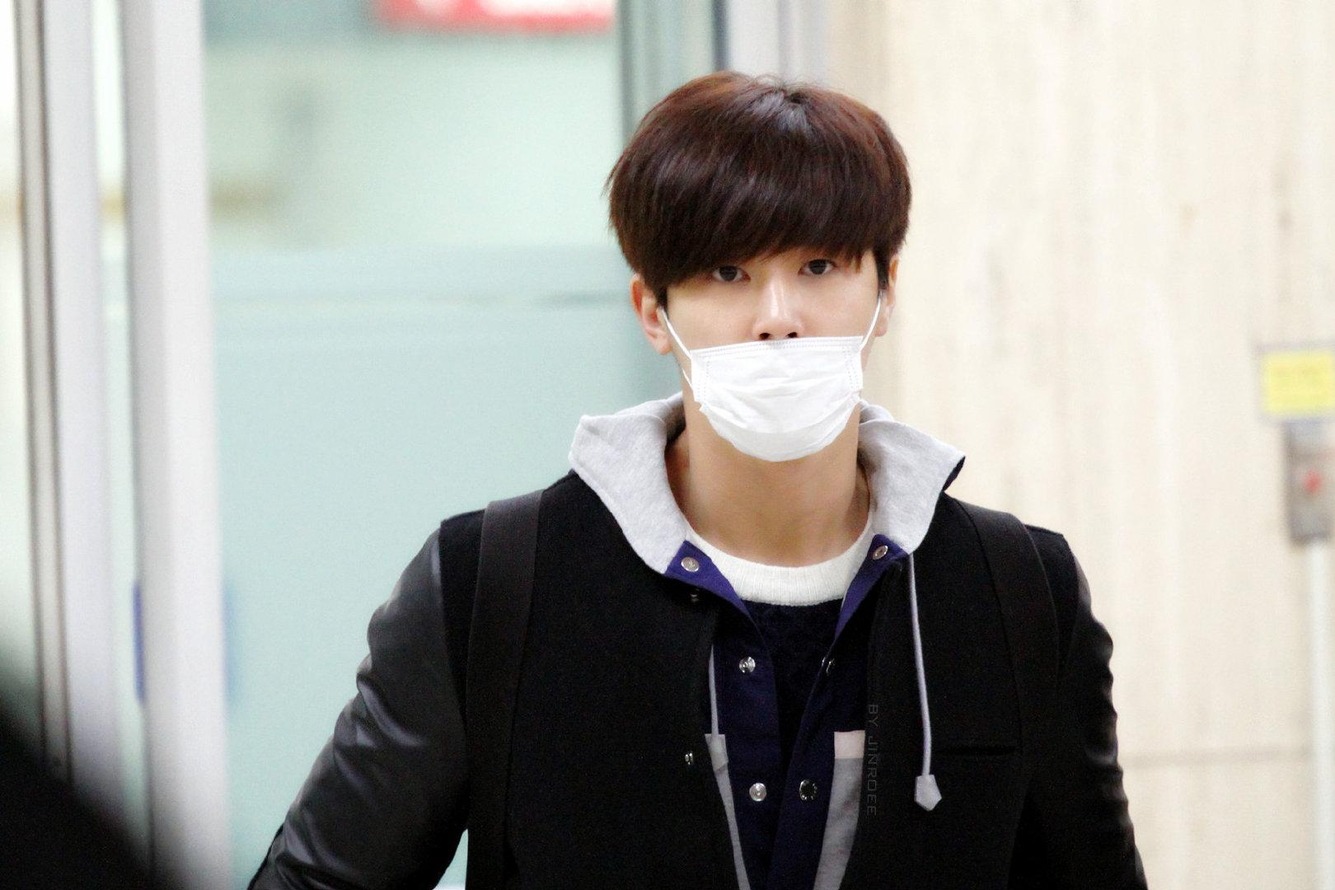WRONG: (672, 199, 883, 460)
